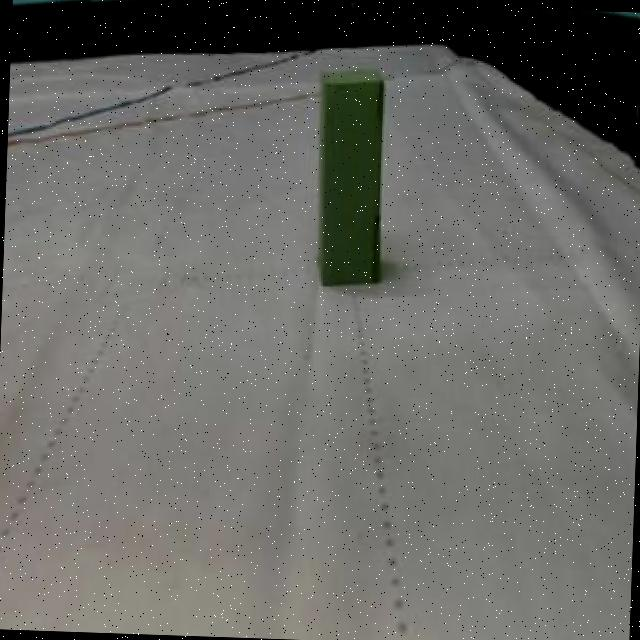greenbox: (306, 59, 390, 290)
